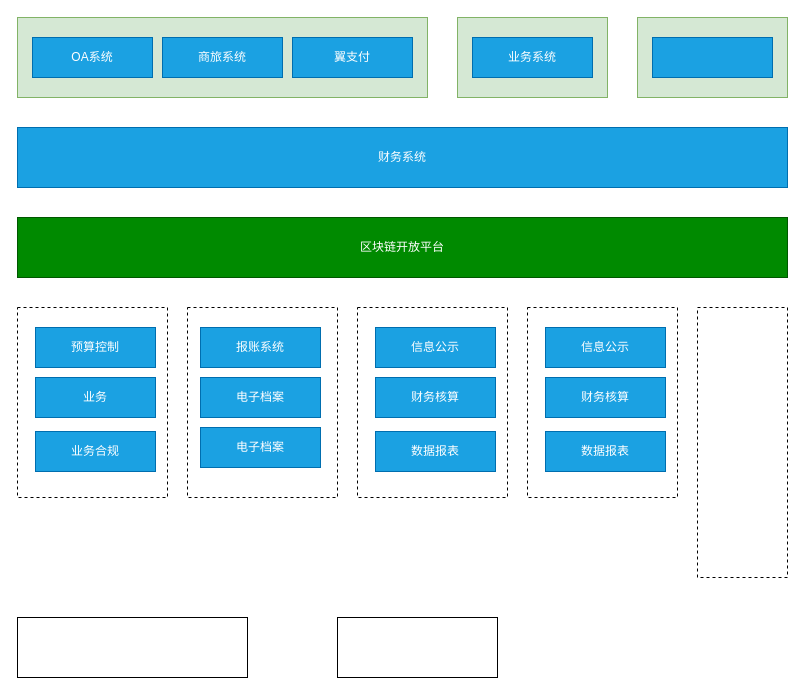
Some shapes in this 805 by 695 pixel diagram are drawn without their labels. The centre of each missing label's shape, as x and y in pixels:
"税务接口" goes at point 132,647.
"采购系统" goes at point 712,57.
"银行网关" goes at point 417,647.
